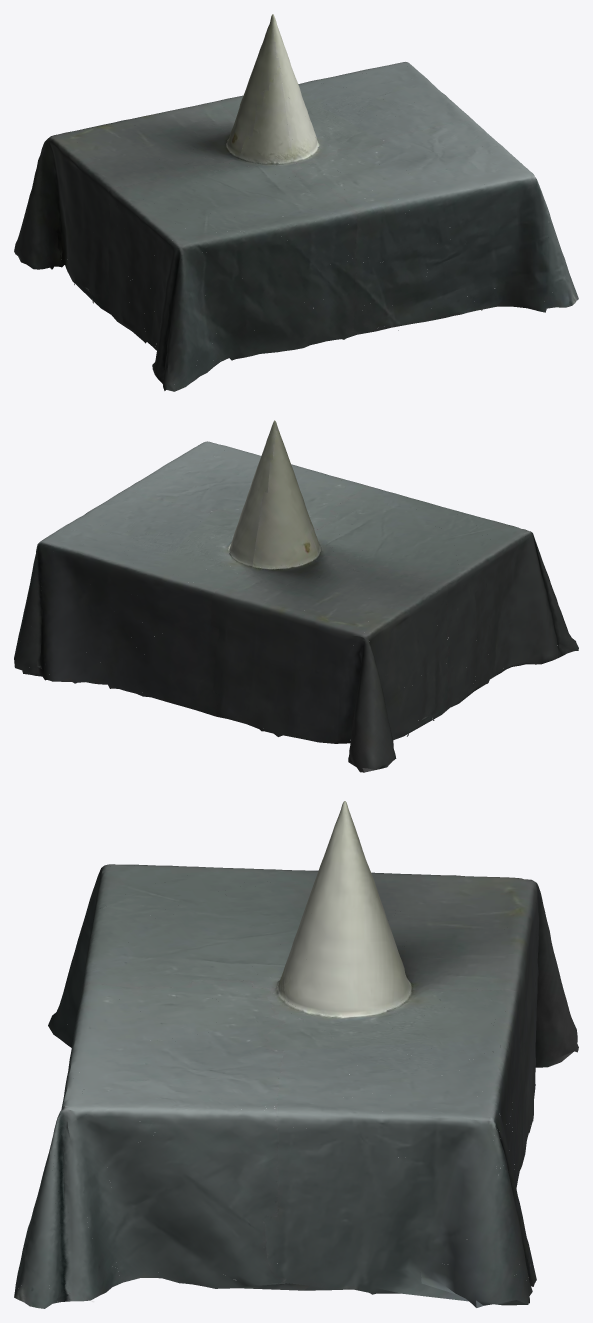
File: 静物_几何体_白色圆锥体01_opt.glb
The picture shows the model from 3 angles, top to bottom: view 1: azimuth 30°, elevation 25°; view 2: azimuth 150°, elevation 25°; view 3: azimuth 270°, elevation 25°; orthographic projection. The views are drawn at different scales.
Parts seen in each view (by area): view 1: defaultMat, defaultMat_1; view 2: defaultMat, defaultMat_1; view 3: defaultMat, defaultMat_1.
Part boxes in pixels (x1,y1,x2,y2): defaultMat: [14, 14, 578, 391]; defaultMat_1: [22, 15, 573, 391]; defaultMat: [14, 420, 578, 772]; defaultMat_1: [15, 425, 561, 772]; defaultMat: [14, 801, 578, 1308]; defaultMat_1: [16, 815, 541, 1307].
Size of the model in its own units: 0.5084 by 0.3 by 0.4149.
Materials: 1 (1 with a texture image).
